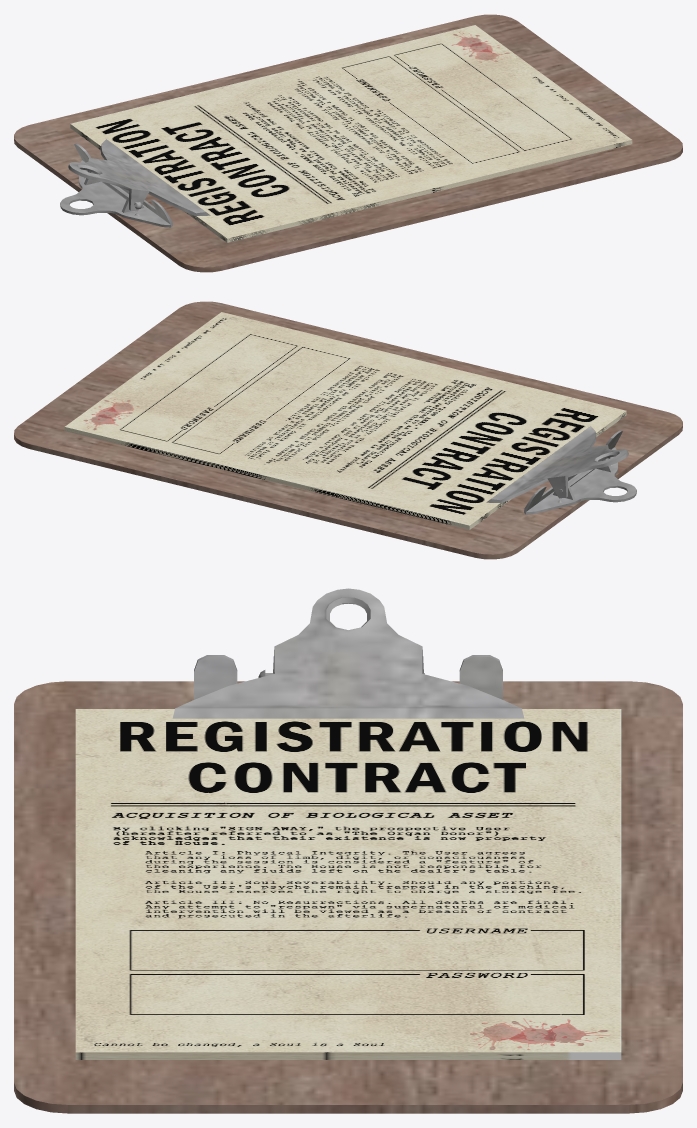
File: signin.glb
3 renders of one model, top to bottom at view 1: azimuth 30°, elevation 25°; view 2: azimuth 150°, elevation 25°; view 3: azimuth 270°, elevation 25°, orthographic. The views are drawn at different scales.
Visible parts, largest first — view 1: Cube.044, Object_49.001; view 2: Cube.044, Object_49.001; view 3: Cube.044, Object_49.001.
Part boxes in pixels (x1=…): Cube.044: x1=70, y1=25, x2=632, y2=242; Object_49.001: x1=14, y1=14, x2=682, y2=272; Cube.044: x1=64, y1=312, x2=626, y2=529; Object_49.001: x1=14, y1=301, x2=682, y2=559; Cube.044: x1=75, y1=709, x2=621, y2=1059; Object_49.001: x1=14, y1=588, x2=682, y2=1113.
Size of the model in its own units: 0.3641 by 0.0295 by 0.2267.
Materials: 3 (3 with a texture image).
